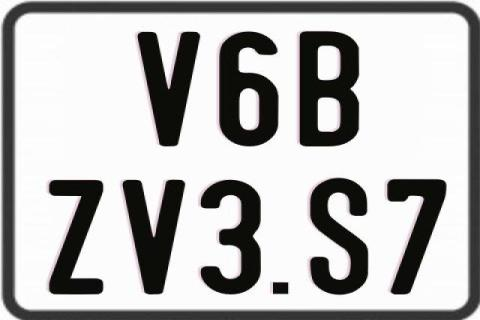0: (218, 30, 283, 148), (199, 179, 261, 297), (387, 178, 447, 294)
B: (300, 29, 365, 150)
S: (308, 177, 368, 299)
V: (135, 30, 204, 146), (122, 178, 187, 296)
Z: (48, 178, 105, 296)
